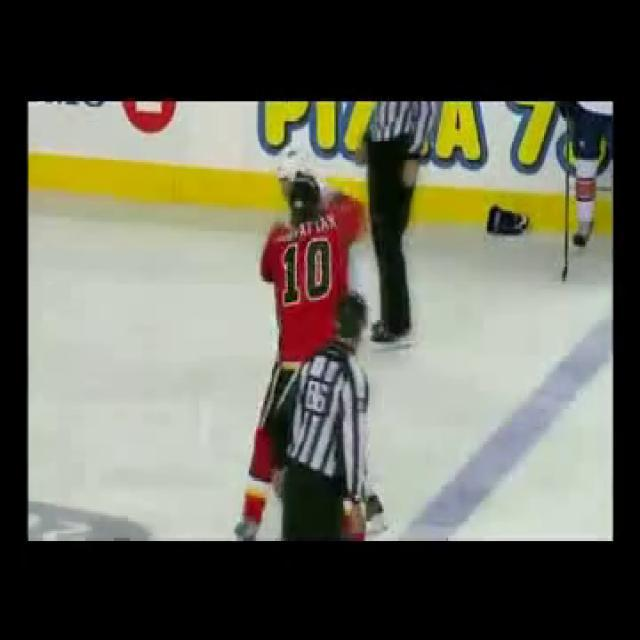non-violence: (275, 299, 371, 548), (366, 103, 436, 342), (564, 106, 610, 249)
violence: (260, 149, 364, 356)
